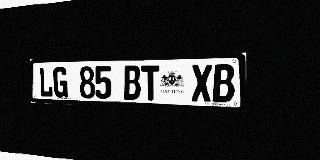5: (95, 66, 111, 99)
8: (79, 66, 95, 99)
B: (213, 64, 235, 102), (123, 65, 141, 100)
G: (53, 67, 68, 98)
L: (39, 67, 53, 97)
T: (141, 65, 160, 100)
X: (191, 64, 212, 102)
